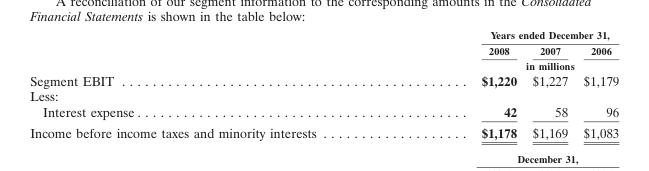table: (29, 28, 618, 139)
table column: (29, 28, 398, 139), (398, 28, 523, 139), (523, 28, 575, 139), (575, 28, 618, 139)
table column header: (29, 28, 618, 72)
table projected row header: (29, 88, 618, 103)
table row: (29, 103, 618, 121), (29, 121, 618, 139), (29, 72, 618, 88), (29, 42, 618, 57), (29, 57, 618, 72), (29, 88, 618, 103), (29, 28, 618, 42)
table spanning cell: (398, 57, 618, 72), (398, 28, 618, 42)
